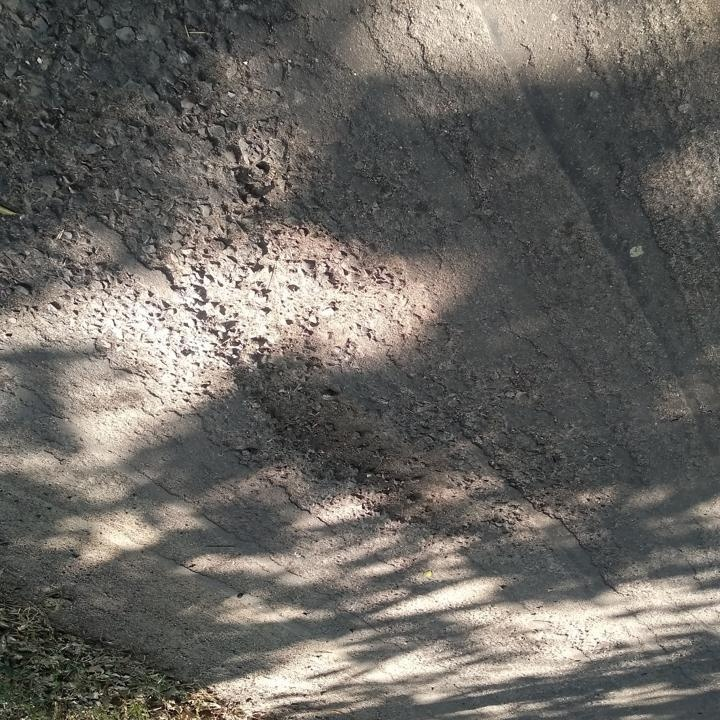pothole: (222, 347, 509, 534)
